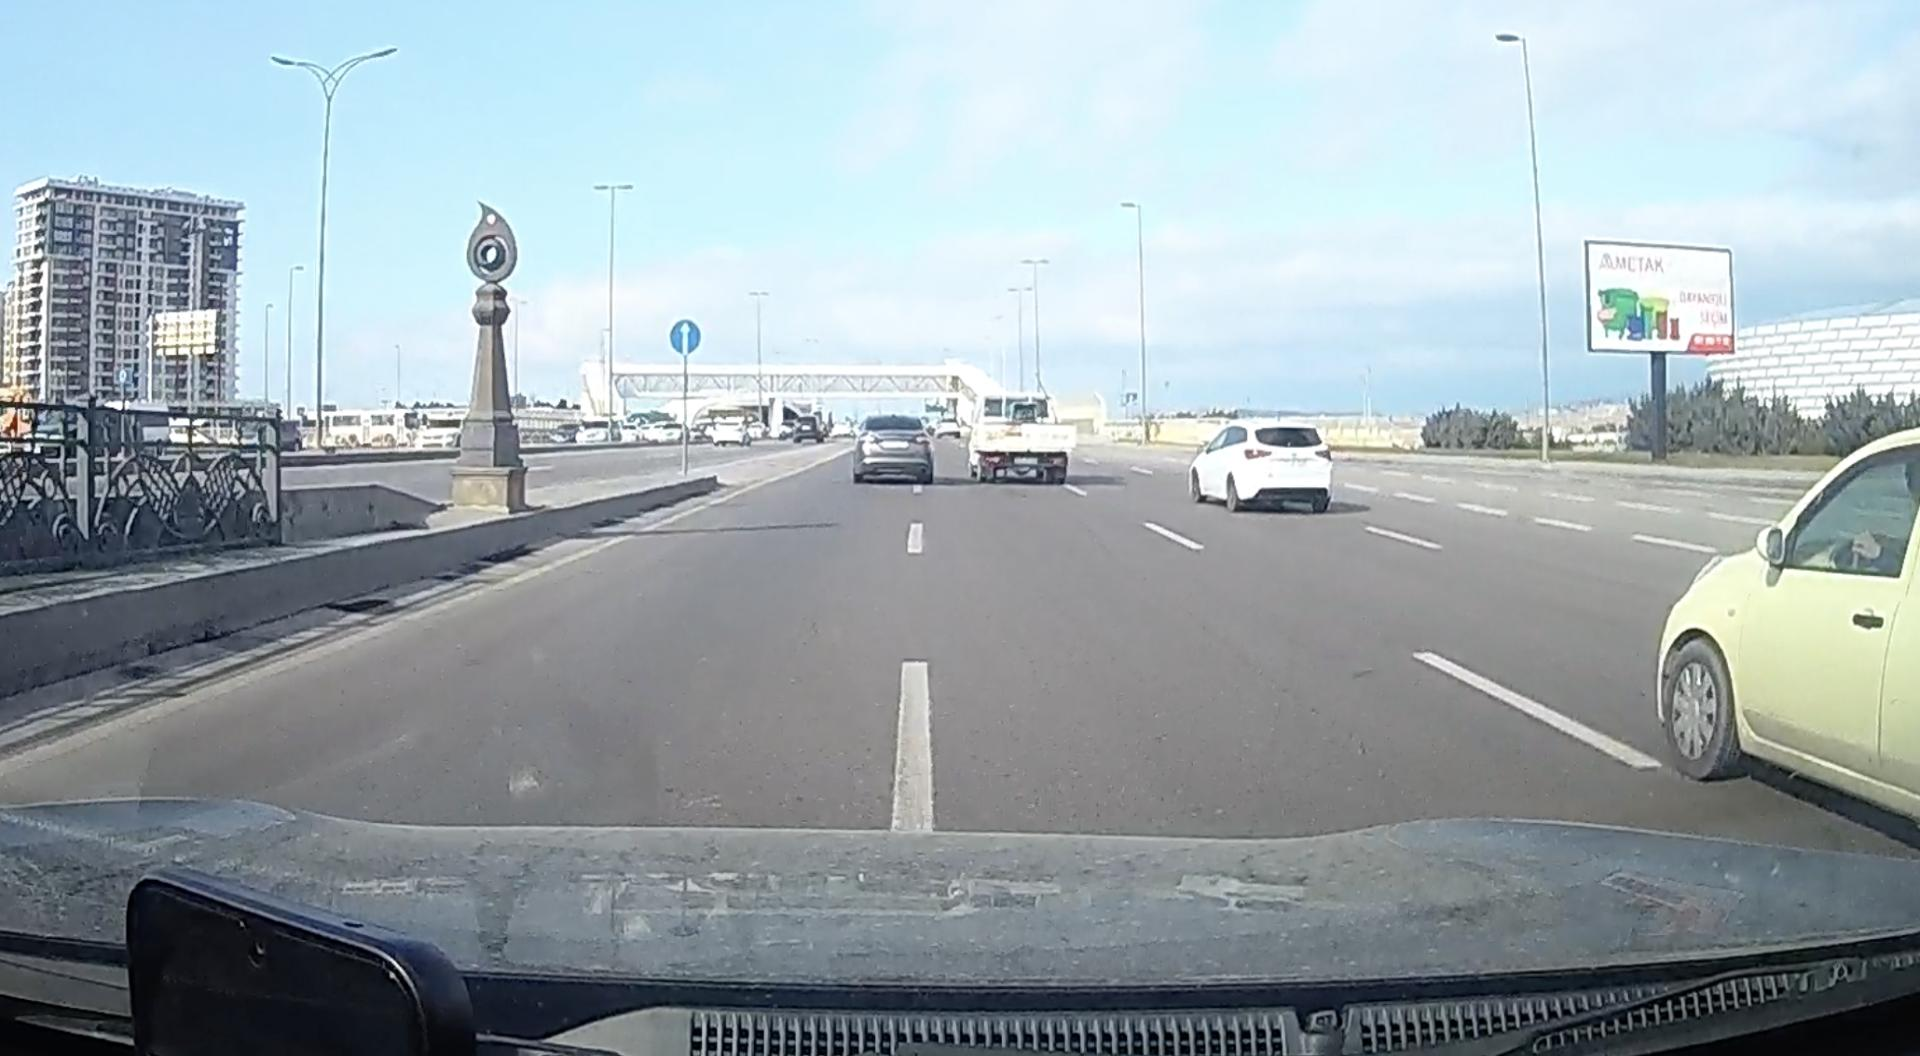banner: (1583, 237, 1737, 358)
